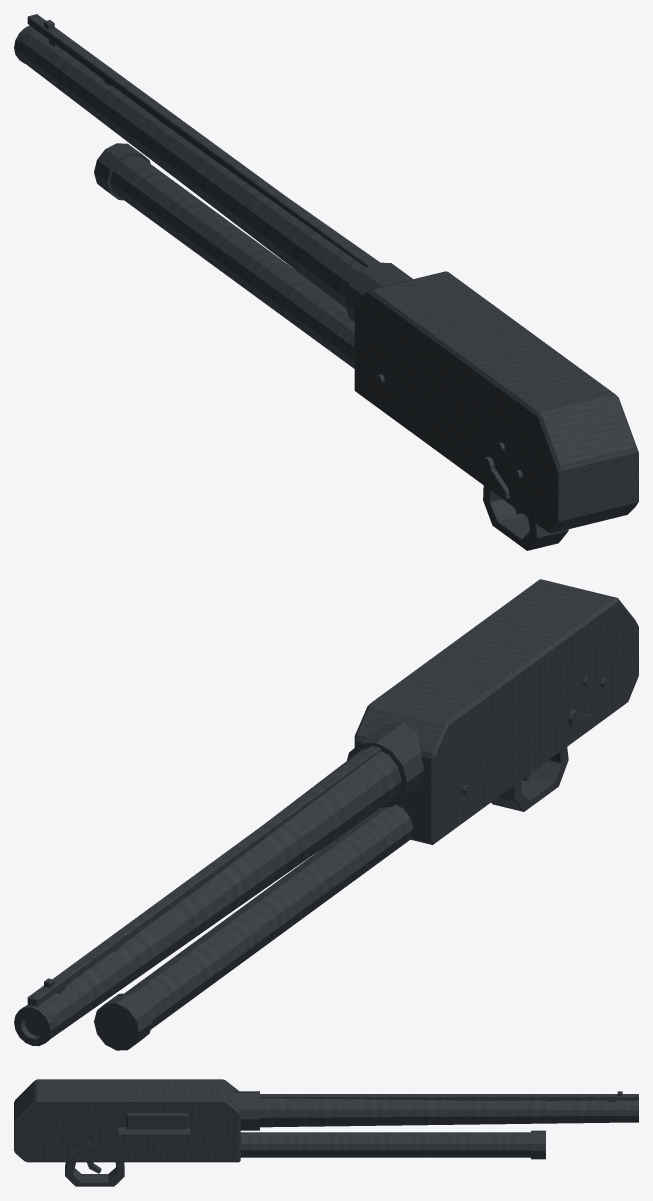
The model's file is weapon_mp133.glb.
3 views of the same model, one above another, from view 1: azimuth 30°, elevation 25°; view 2: azimuth 150°, elevation 25°; view 3: azimuth 270°, elevation 25° (orthographic). The views are drawn at different scales.
Parts seen in each view (by area): view 1: body_LOD0; view 2: body_LOD0; view 3: body_LOD0, action_LOD0.
Boxes of the visible parts, <box> form: body_LOD0: <box>14,14,638,550</box>; body_LOD0: <box>14,579,638,1050</box>; body_LOD0: <box>14,1079,638,1186</box>; action_LOD0: <box>126,1113,188,1129</box>.
Size of what is drawn, in the model's own units: 0.104 by 0.186 by 1.13.
Materials: 1 (1 with a texture image).
